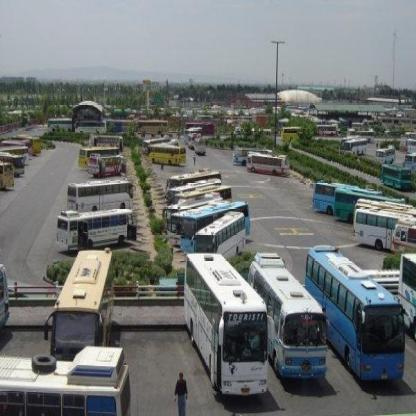Bus: (292, 237, 406, 387), (178, 251, 273, 413), (248, 252, 332, 380), (52, 237, 116, 365), (0, 356, 134, 416), (52, 207, 138, 253), (185, 193, 253, 247), (354, 206, 416, 264), (58, 181, 144, 208), (198, 213, 249, 253), (333, 188, 387, 225), (312, 181, 356, 216), (90, 152, 127, 183), (244, 151, 288, 177), (145, 146, 189, 170), (382, 164, 413, 190), (0, 166, 16, 194), (347, 135, 366, 158), (372, 147, 396, 164)
